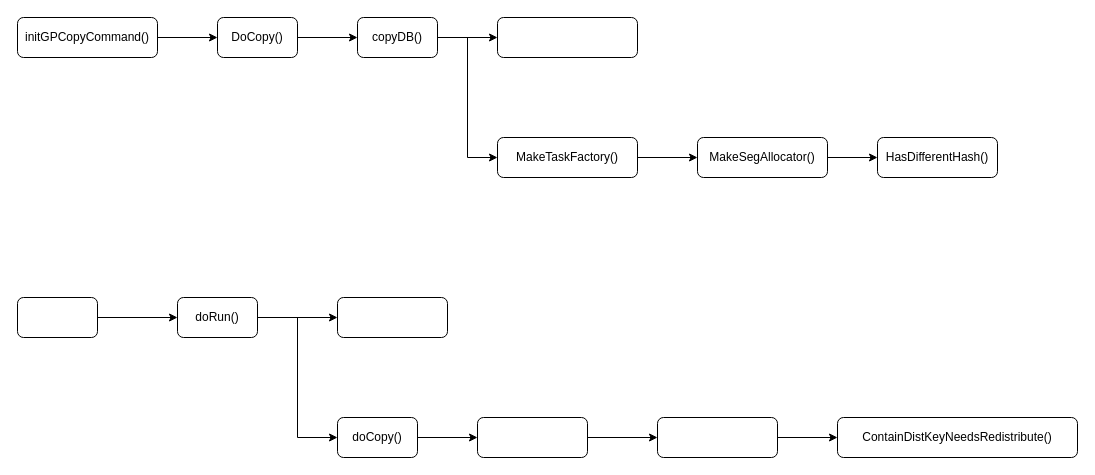
The diagram is 1095 pixels wide and 475 high, and some of its shapes have lost their labels. Here are the shapes that lost their labels. From the top down, the centre of each, then its label:
the point at 567,37: MakeConnectionPair()
the point at 57,317: Run()
the point at 392,317: initDestRelInfo()
the point at 532,437: initRedistributed()
the point at 717,437: IsKeyRedistributed()
